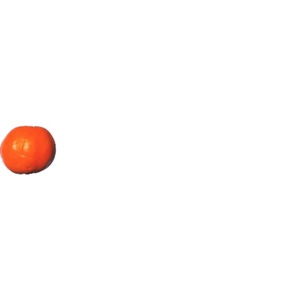tangerina: (1, 127, 57, 175)
